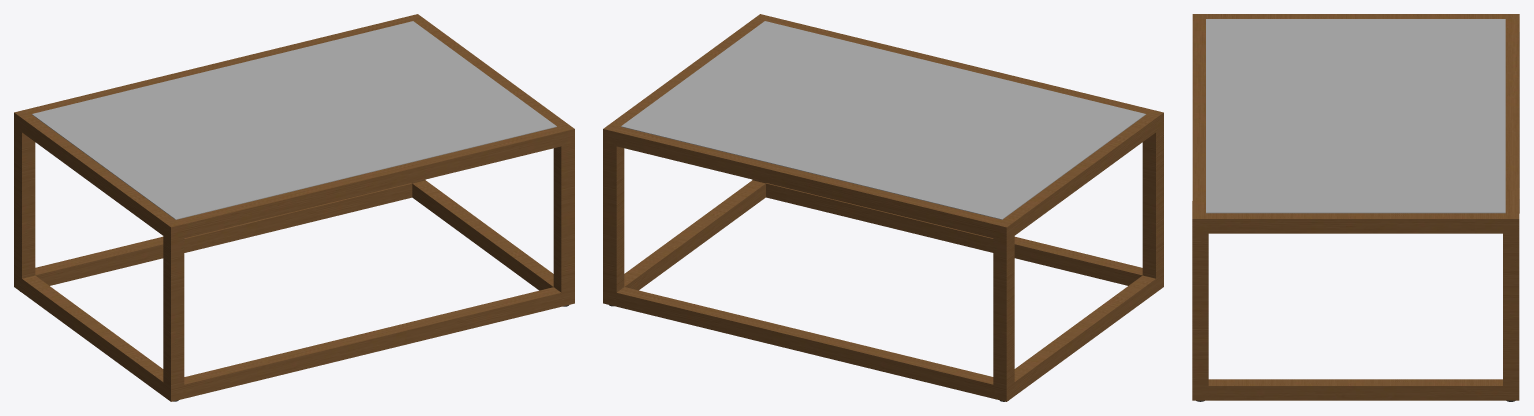
3 views of the same model, side by side, from view 1: azimuth 30°, elevation 25°; view 2: azimuth 150°, elevation 25°; view 3: azimuth 270°, elevation 25° (orthographic). The views are drawn at different scales.
Visible parts, largest first — view 1: C-skp8E26; view 2: C-skp8E26; view 3: C-skp8E26.
Boxes of the visible parts, bbox=[...] form: C-skp8E26: bbox=[14, 14, 574, 401]; C-skp8E26: bbox=[603, 14, 1163, 401]; C-skp8E26: bbox=[1192, 14, 1519, 401].
Bounding box in the file's own units: 0.9394 × 0.3943 × 0.6332.
3 materials, 1 textured.
